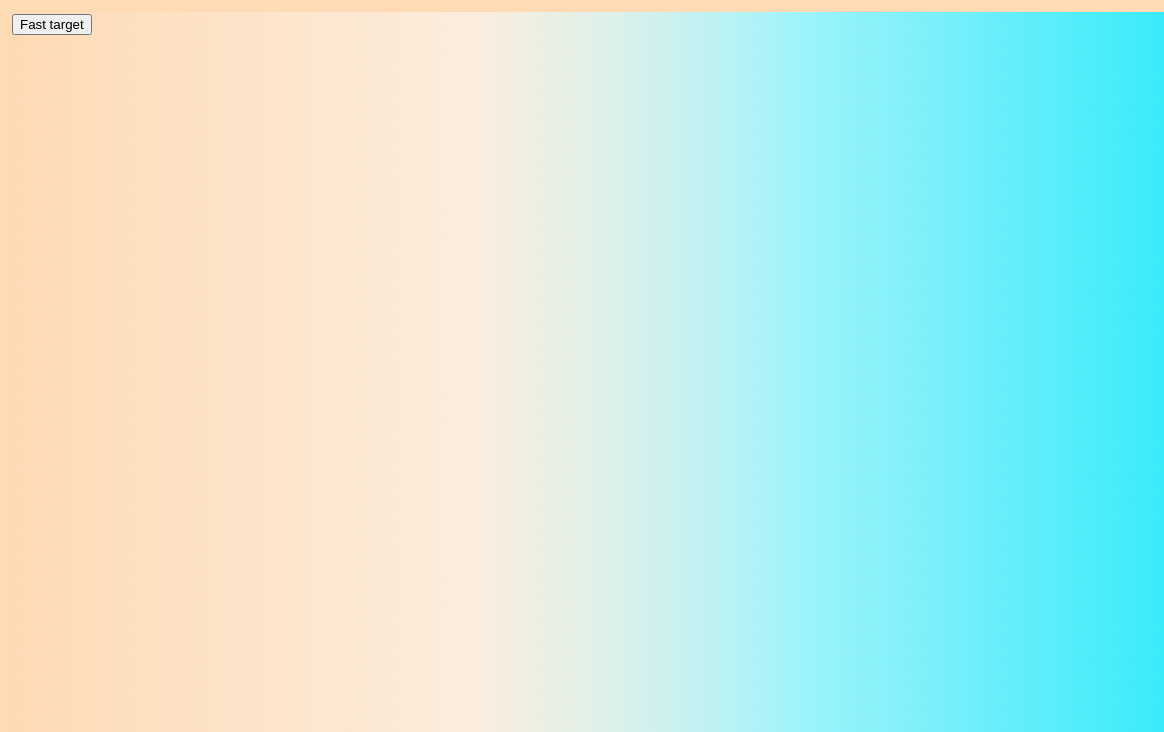
Test: Tooltip shared TooltipProvider (D13) › явный delayDuration у Tooltip перекрывает Provider
Hover over the button "Fast target".
mouse_move(52, 24)  # box [12,14,92,35]
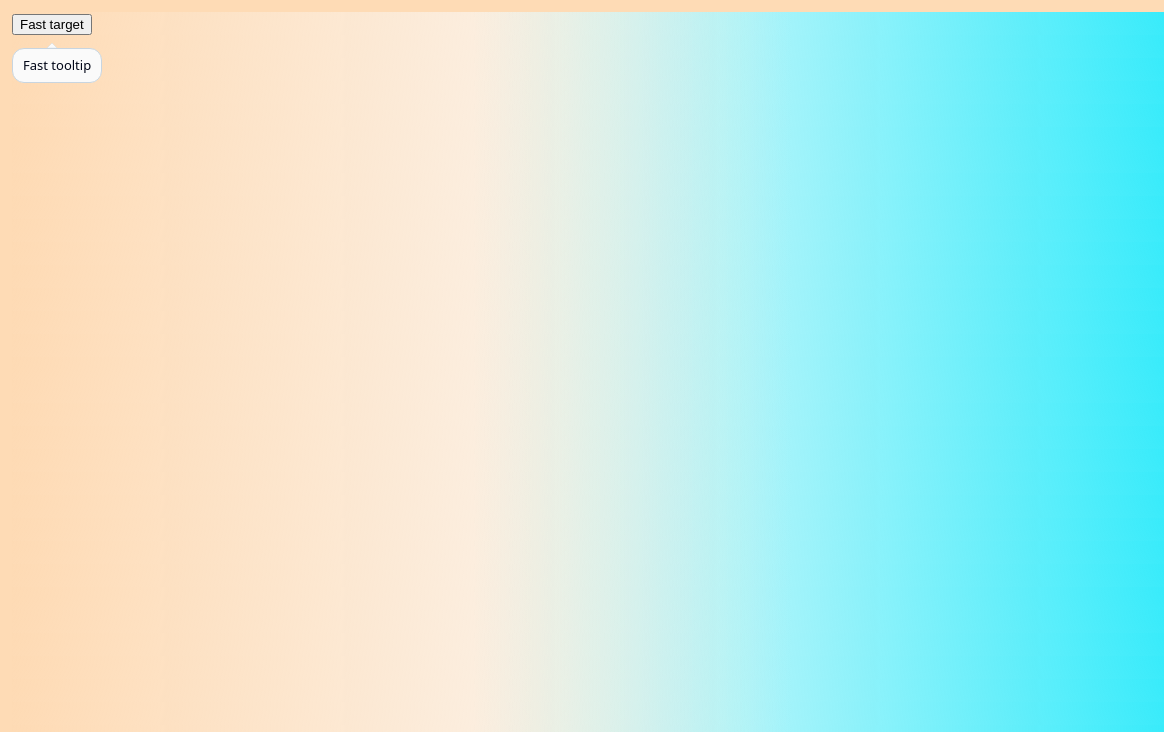
Check: the tooltip reads "Fast tooltip", box [23,56,91,74]
